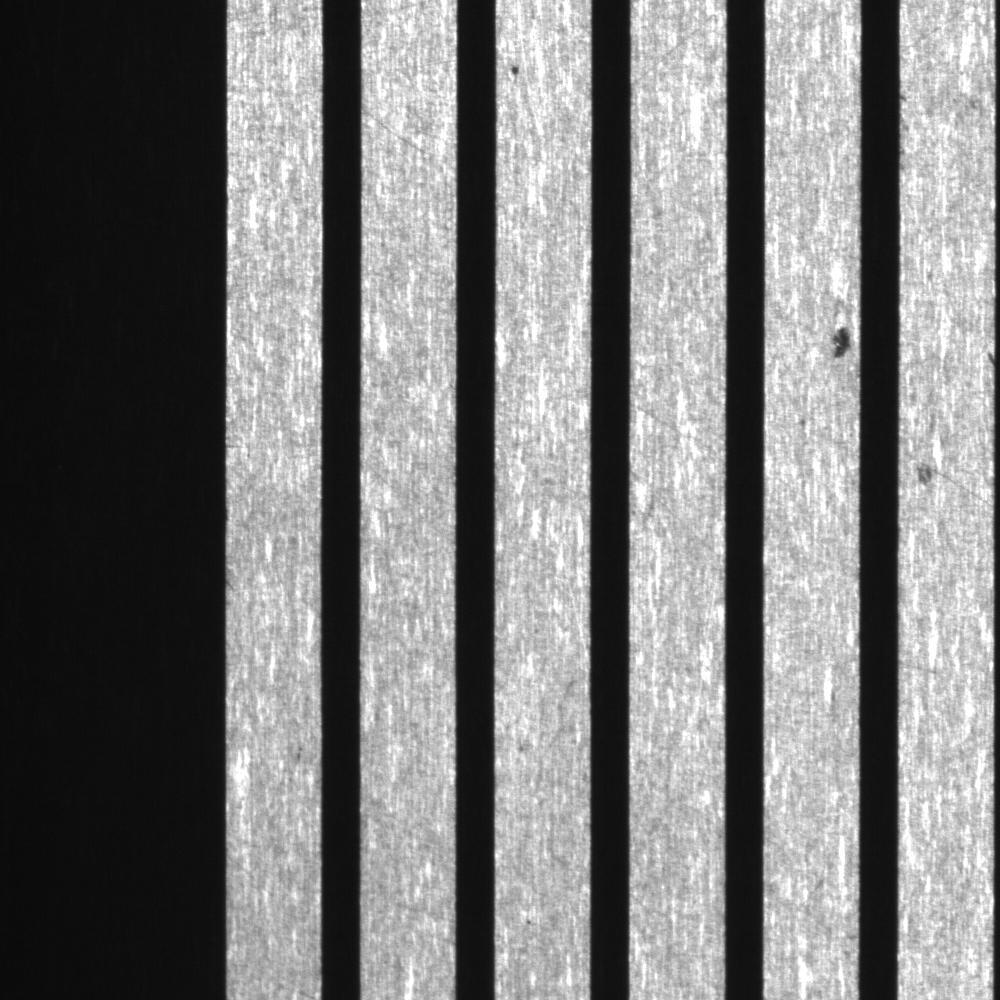Etching: (822, 320, 858, 365), (793, 411, 813, 434)
Pinhole: (501, 54, 533, 84)
Scar: (901, 424, 992, 550), (630, 460, 720, 577), (632, 7, 726, 95), (631, 378, 721, 465), (900, 1, 994, 64), (362, 101, 445, 162)
